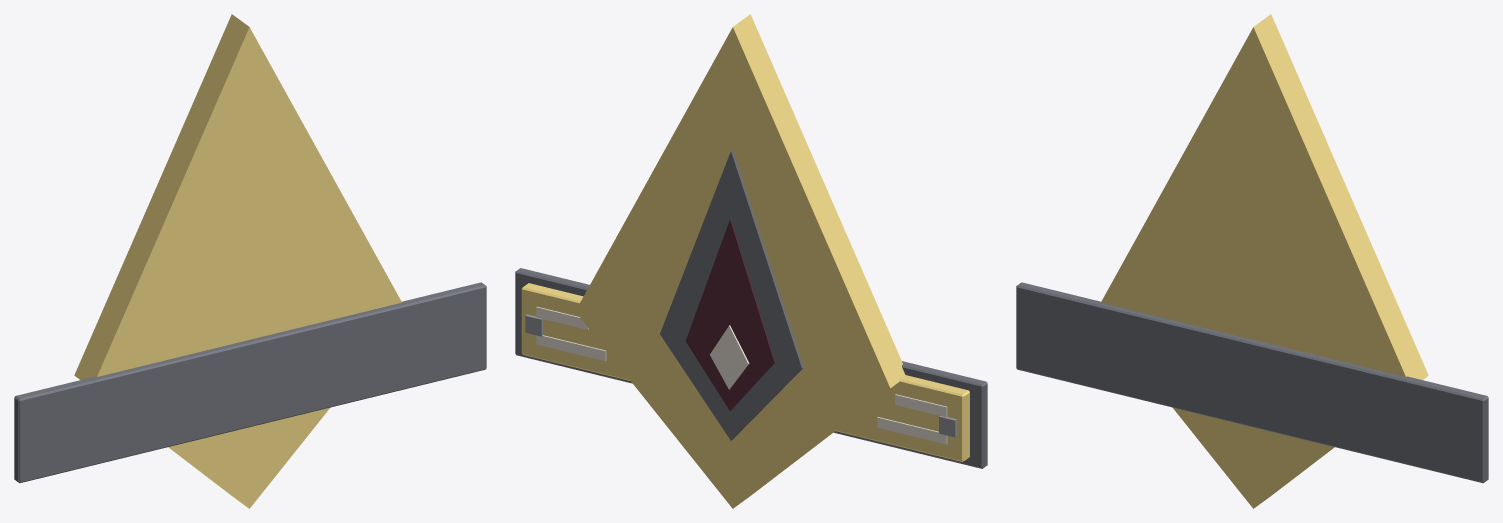
File: prop_graded_case_badge_01.glb
The picture shows the model from 3 angles, left to right: view 1: azimuth 30°, elevation 25°; view 2: azimuth 150°, elevation 25°; view 3: azimuth 330°, elevation 25°; orthographic projection.
Parts seen in each view (by area): view 1: prop_graded_case_badge_01; view 2: prop_graded_case_badge_01; view 3: prop_graded_case_badge_01.
Part boxes in pixels (bbox=[...]): prop_graded_case_badge_01: bbox=[14, 14, 486, 508]; prop_graded_case_badge_01: bbox=[515, 14, 987, 508]; prop_graded_case_badge_01: bbox=[1016, 14, 1488, 508].
Size of the model in its own units: 0.58 by 0.57 by 0.054.
